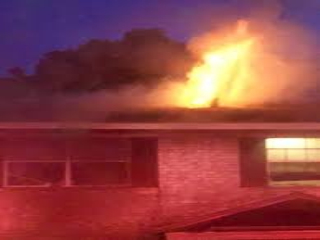fire: (190, 69, 219, 94)
smoke: (12, 27, 185, 91)
